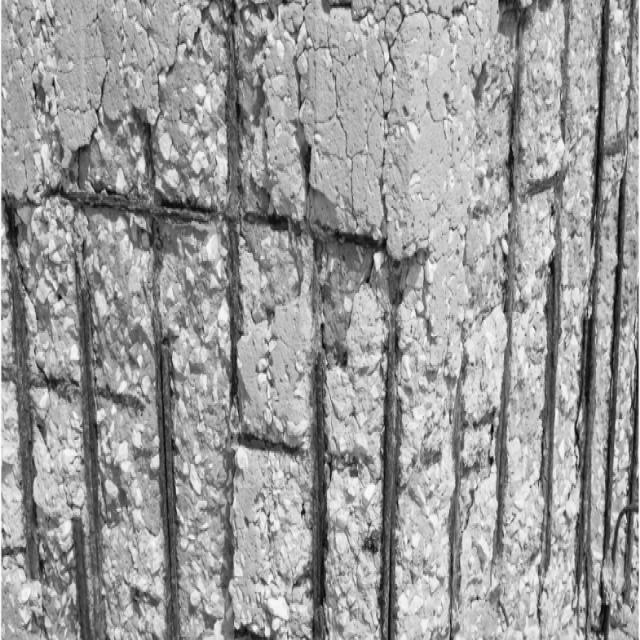Spalling: (6, 5, 635, 640)
